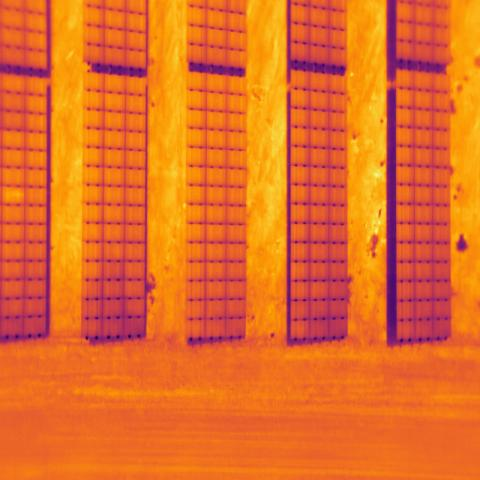fault: (1, 186, 24, 206)
